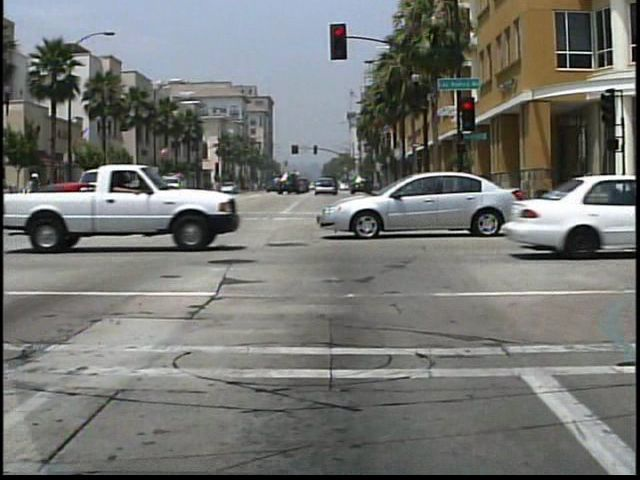person: (24, 167, 47, 221)
